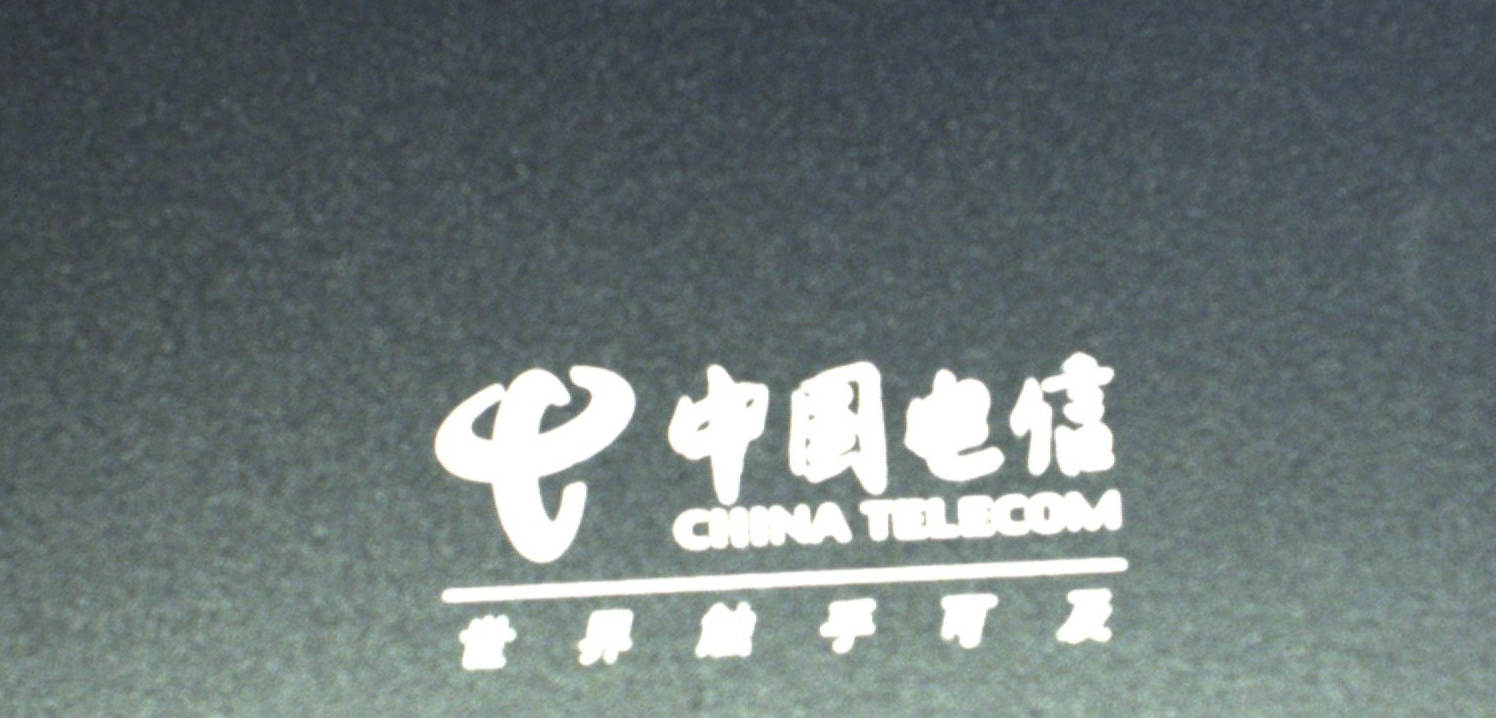AB_ChinaTelecom: (421, 350, 1137, 686)
